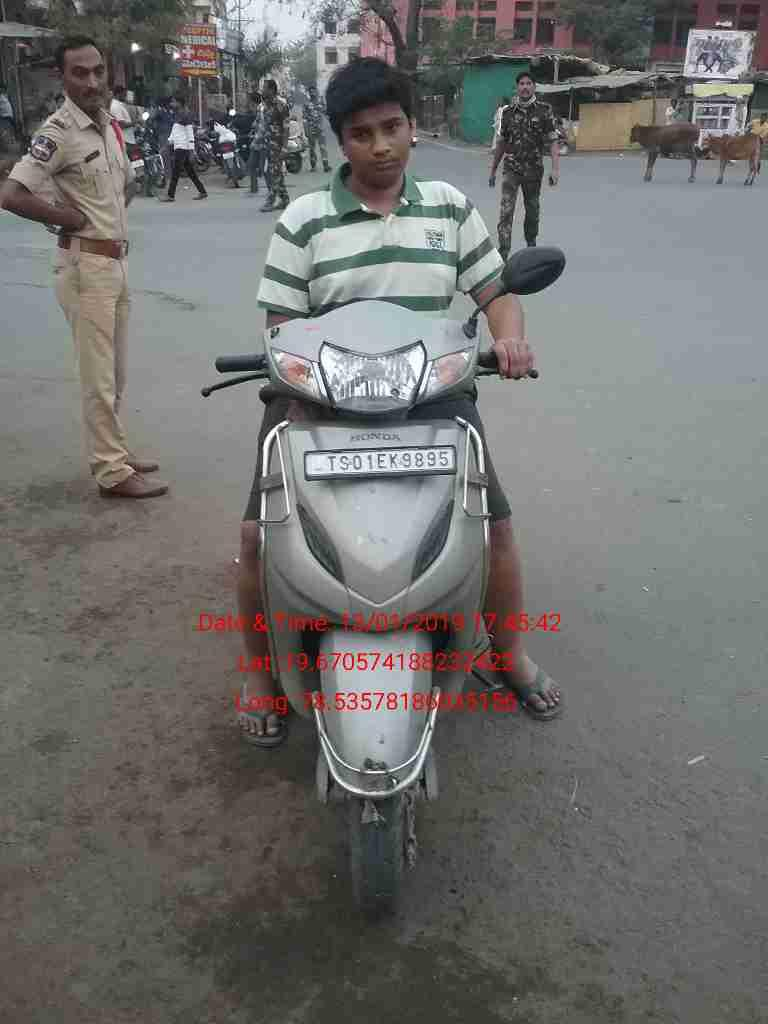without_helmet: (166, 50, 582, 930)
